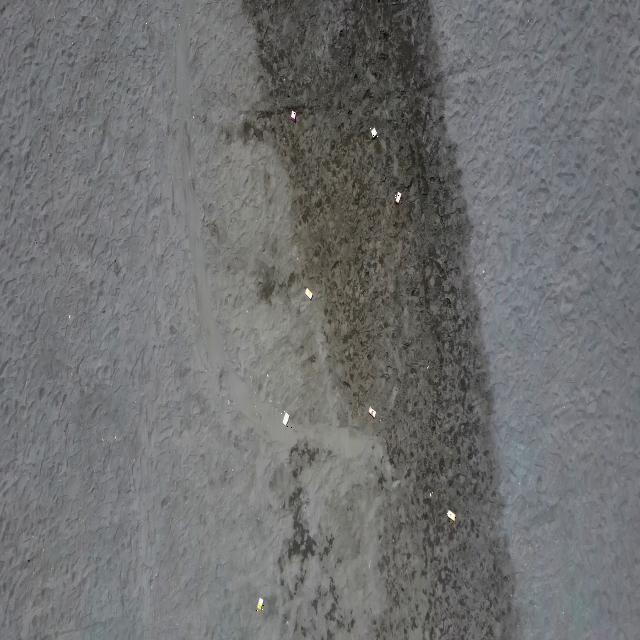Garbage: (256, 597, 263, 612), (304, 287, 312, 299), (281, 412, 288, 424), (447, 510, 455, 520), (367, 406, 375, 416), (393, 192, 400, 203), (369, 127, 376, 138), (289, 111, 296, 120), (428, 491, 431, 496)
